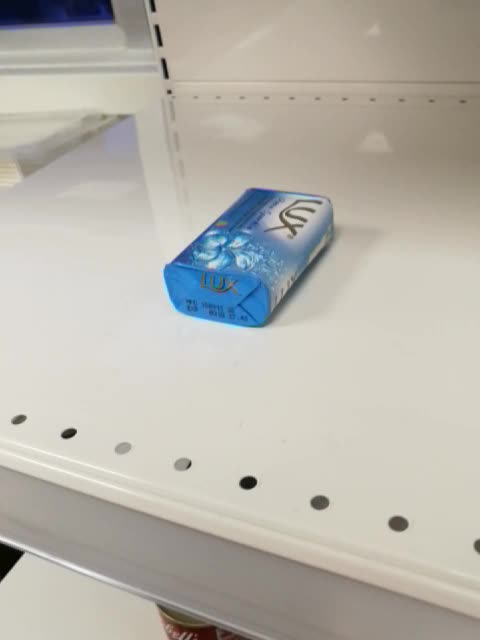soap: (163, 186, 335, 330)
